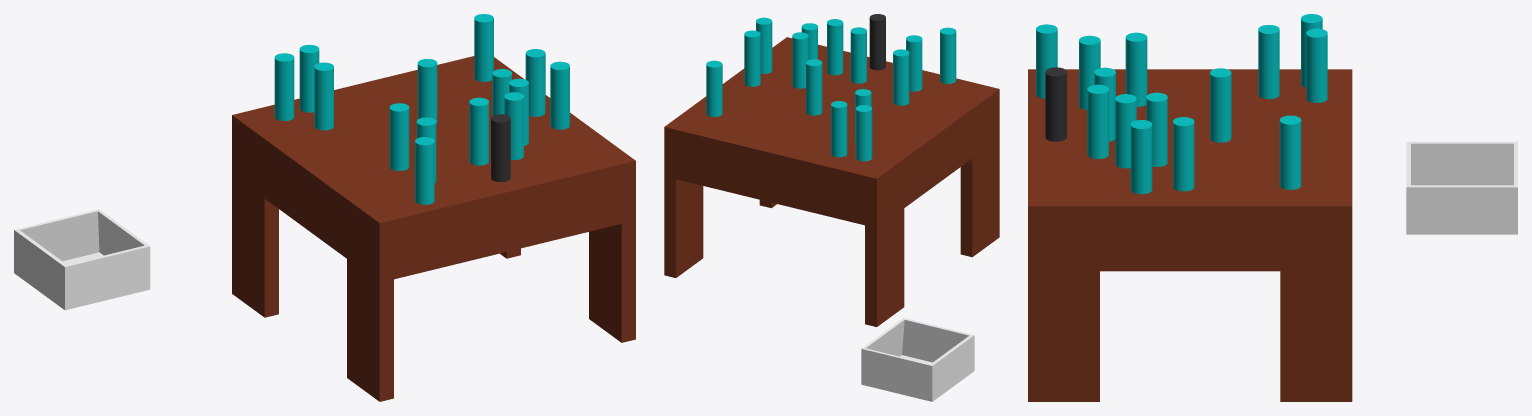
The model's file is can_world_15_cans.dae.
3 views of the same model, side by side, from view 1: azimuth 30°, elevation 25°; view 2: azimuth 150°, elevation 25°; view 3: azimuth 270°, elevation 25° (orthographic). The views are drawn at different scales.
Parts seen in each view (by area): view 1: base (×19), SketchUp (×2); view 2: base (×19), SketchUp (×2); view 3: base (×18), SketchUp (×2).
Part boxes in pixels (x1,y1,x2,y2): base (×19): (232,14,635,401); SketchUp (×2): (14,209,150,310); base (×19): (664,14,999,326); SketchUp (×2): (861,318,974,401); base (×18): (1028,14,1352,401); SketchUp (×2): (1406,141,1517,234).
Size of the model in its own units: 1.4 by 1.36 by 0.811.
